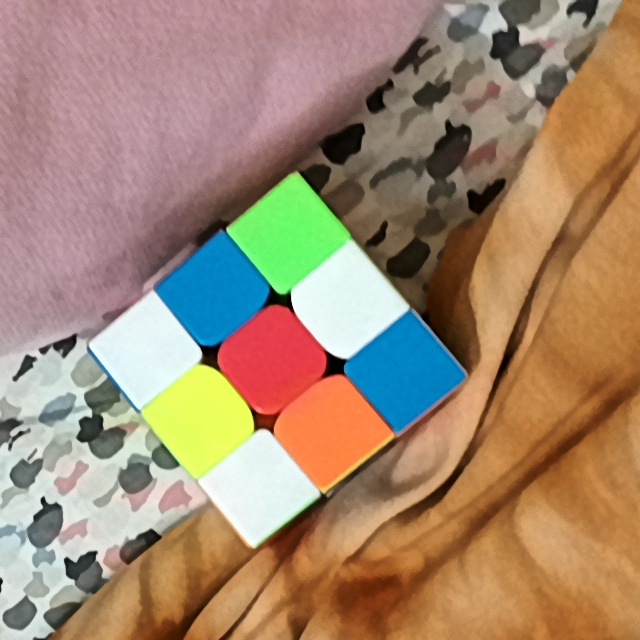tile: (298, 397, 361, 459), (227, 457, 289, 518), (374, 341, 437, 401), (243, 326, 303, 389), (255, 207, 319, 264), (318, 273, 377, 333), (168, 392, 231, 447), (189, 263, 244, 321), (117, 322, 174, 377)
